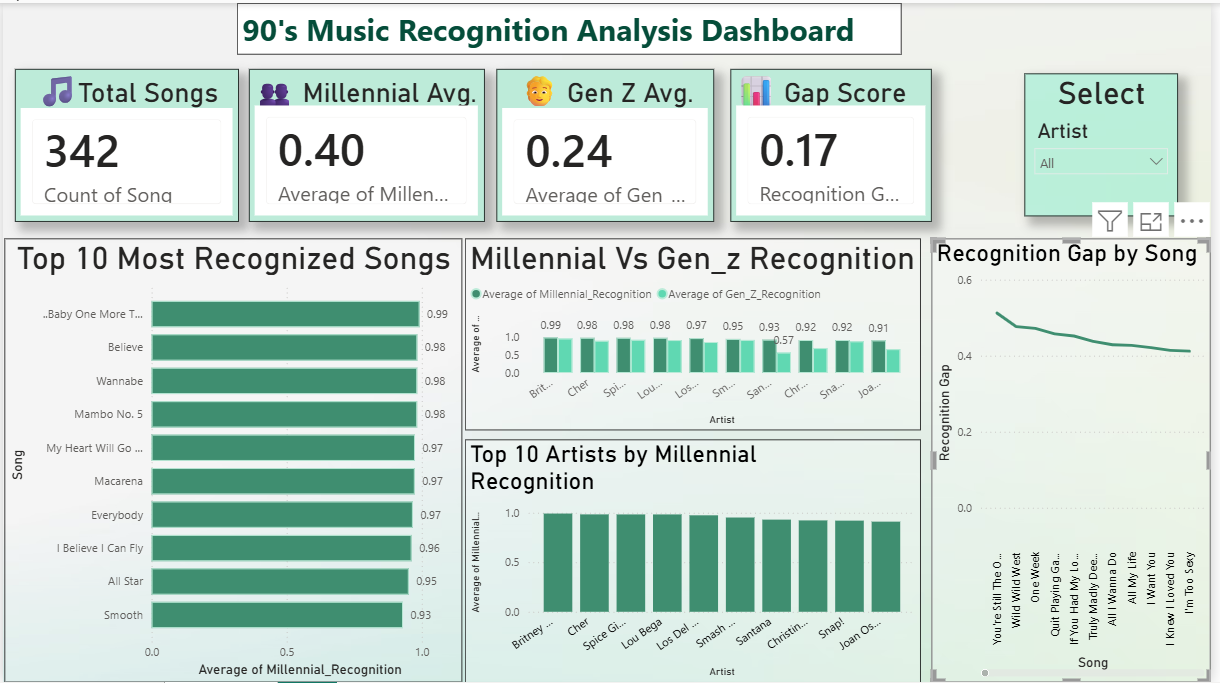

The dashboard page shown, as its layout file describes it:
{"tool":"powerbi","page":{"name":"Page 1","canvas":[1280,720],"ordinal":0},"visuals":[{"type":"clusteredBarChart","title":"Top 10 Most Recognized Songs","fields":{"Y":["Avg(recognition_by_generation.Millennial_Recognition)"],"Category":["recognition_by_generation.Song"]},"box":[1.6,249.2,485.1,470.8],"z":0},{"type":"textbox","box":[248.4,0,704.7,54.7],"z":1000},{"type":"cardVisual","title":"🎵Total Songs","fields":{"Data":["Count(recognition_by_generation.Song)"]},"box":[12.7,70,237,162.2],"z":2000},{"type":"cardVisual","title":"👥 Millennial Avg.","fields":{"Data":["Avg(recognition_by_generation.Millennial_Recognition)"]},"box":[260.9,70,249.7,162.2],"z":3000},{"type":"cardVisual","title":"🧑 Gen Z Avg.","fields":{"Data":["Avg(recognition_by_generation.Gen_Z_Recognition)"]},"box":[523.3,70,230.6,162.2],"z":4000},{"type":"cardVisual","title":"📊 Gap Score","fields":{"Data":["recognition_by_generation.Recognition Gap"]},"box":[771.4,70,213.1,162.2],"z":5000},{"type":"clusteredColumnChart","title":"Top 10 Artists by Millennial Recognition","fields":{"Category":["recognition_by_generation.Artist"],"Y":["Avg(recognition_by_generation.Millennial_Recognition)"]},"box":[489.9,462.9,483.5,257.7],"z":6000},{"type":"slicer","title":"Select","fields":{"Values":["recognition_by_generation.Artist"]},"box":[1082.8,75,162.5,151.6],"z":7000},{"type":"lineChart","fields":{"Category":["recognition_by_generation.Song"],"Y":["recognition_by_generation.Recognition Gap"]},"box":[984.6,249.7,295.9,470.8],"z":8000},{"type":"clusteredColumnChart","title":"Millennial Vs Gen_z Recognition","fields":{"Category":["recognition_by_generation.Artist"],"Y":["Avg(recognition_by_generation.Millennial_Recognition)","Avg(recognition_by_generation.Gen_Z_Recognition)"]},"box":[489.9,249.7,483.5,203.6],"z":9000}]}

Visuals, with their boxes in screenshot pixels (x1, y1, x2, y2), scaled from the page's 1280x720 canvas onto the 1220x683 screenshot:
"Top 10 Most Recognized Songs" clusteredBarChart: select_region(2, 236, 464, 682)
textbox: select_region(237, 0, 908, 52)
"🎵Total Songs" cardVisual: select_region(12, 66, 238, 220)
"👥 Millennial Avg." cardVisual: select_region(249, 66, 487, 220)
"🧑 Gen Z Avg." cardVisual: select_region(499, 66, 719, 220)
"📊 Gap Score" cardVisual: select_region(735, 66, 938, 220)
"Top 10 Artists by Millennial Recognition" clusteredColumnChart: select_region(467, 439, 928, 682)
"Select" slicer: select_region(1032, 71, 1187, 215)
lineChart - recognition_by_generation.Song x recognition_by_generation.Recognition Gap: select_region(938, 237, 1219, 682)
"Millennial Vs Gen_z Recognition" clusteredColumnChart: select_region(467, 237, 928, 430)
